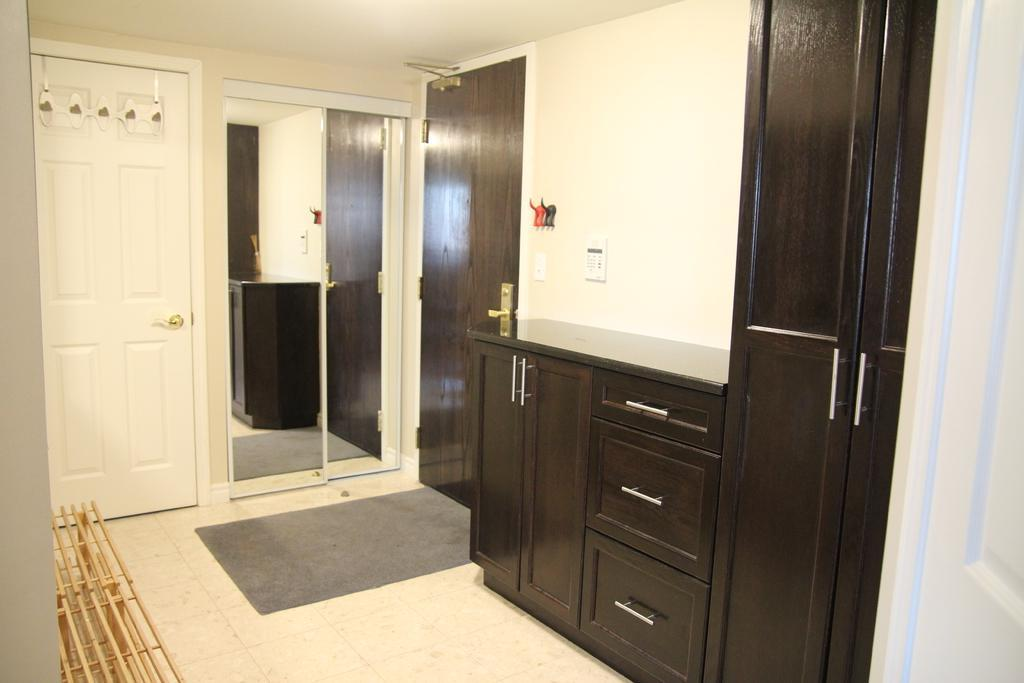door: (35, 91, 175, 496), (418, 88, 472, 490), (332, 121, 376, 440)
handle: (152, 307, 184, 333), (484, 304, 511, 320), (325, 277, 341, 294)
